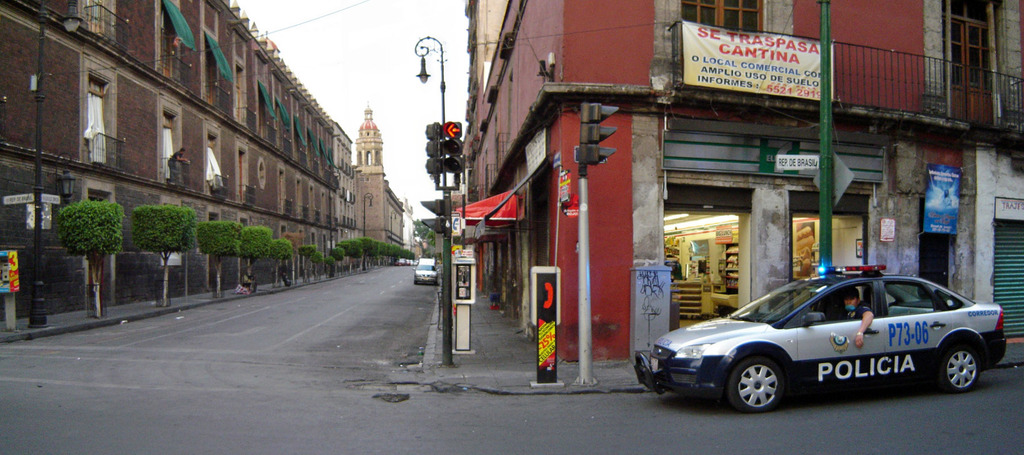Car: (634, 262, 1012, 415), (414, 263, 437, 284)
